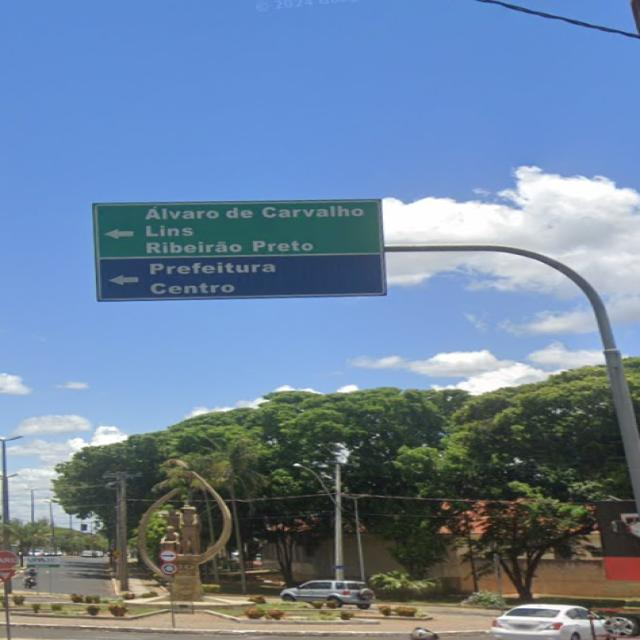indication: (69, 190, 407, 312)
